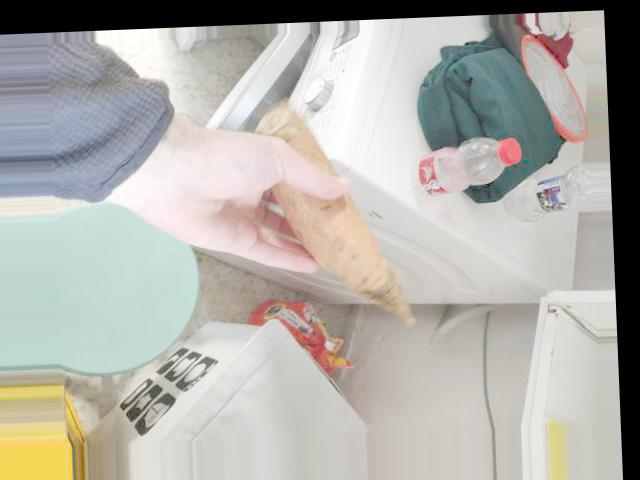sweet_potato: (272, 152, 396, 279)
